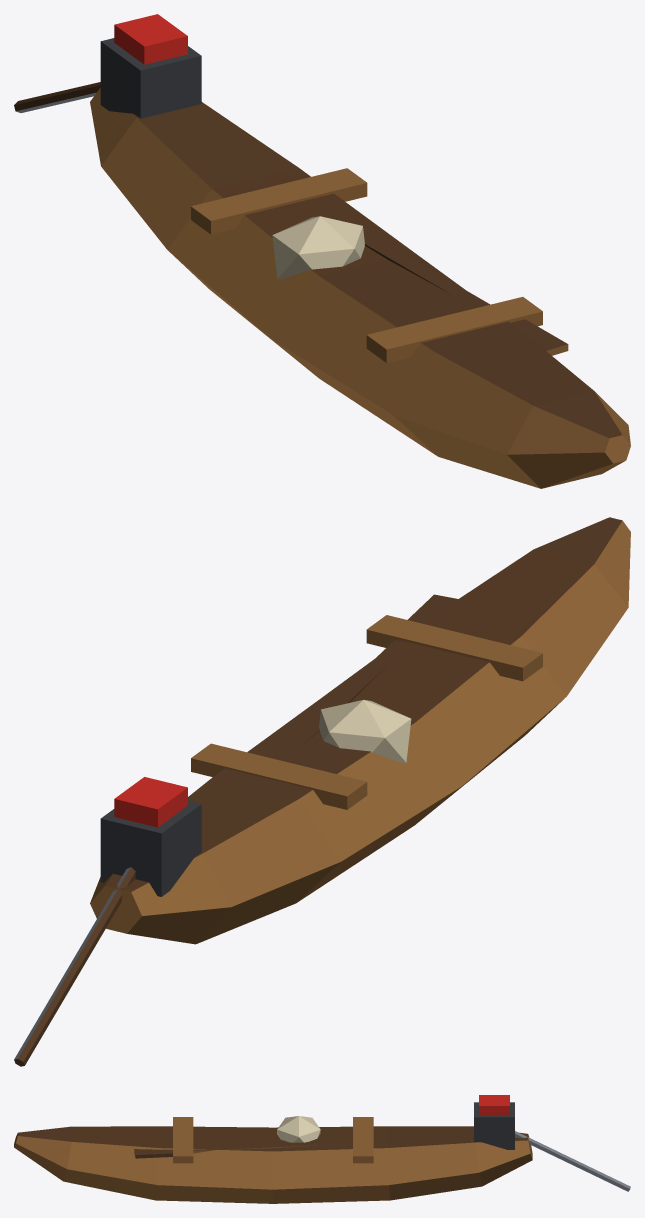
File: Canoa.fbx
3 renders of one model, top to bottom at view 1: azimuth 30°, elevation 25°; view 2: azimuth 150°, elevation 25°; view 3: azimuth 270°, elevation 25°, orthographic. The views are drawn at different scales.
Visible parts, largest first — view 1: Canoa; view 2: Canoa; view 3: Canoa.
Part boxes in pixels (<box>): Canoa: <box>14,14,630,488</box>; Canoa: <box>14,517,630,1066</box>; Canoa: <box>14,1095,630,1203</box>.
Bounding box in the file's own units: 0.44 × 0.3926 × 2.4.
